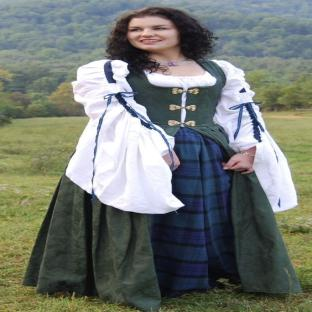Human: (23, 7, 300, 310)
